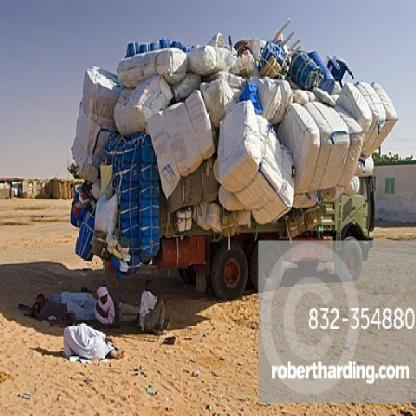overloaded-truck: (68, 33, 402, 228)
